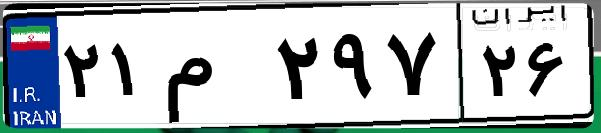1: (110, 28, 158, 98)
2: (270, 28, 330, 110), (57, 26, 110, 100), (475, 38, 525, 113)
6: (525, 38, 570, 115)
7: (385, 28, 445, 110)
9: (330, 28, 385, 110)
م: (158, 20, 270, 120)
